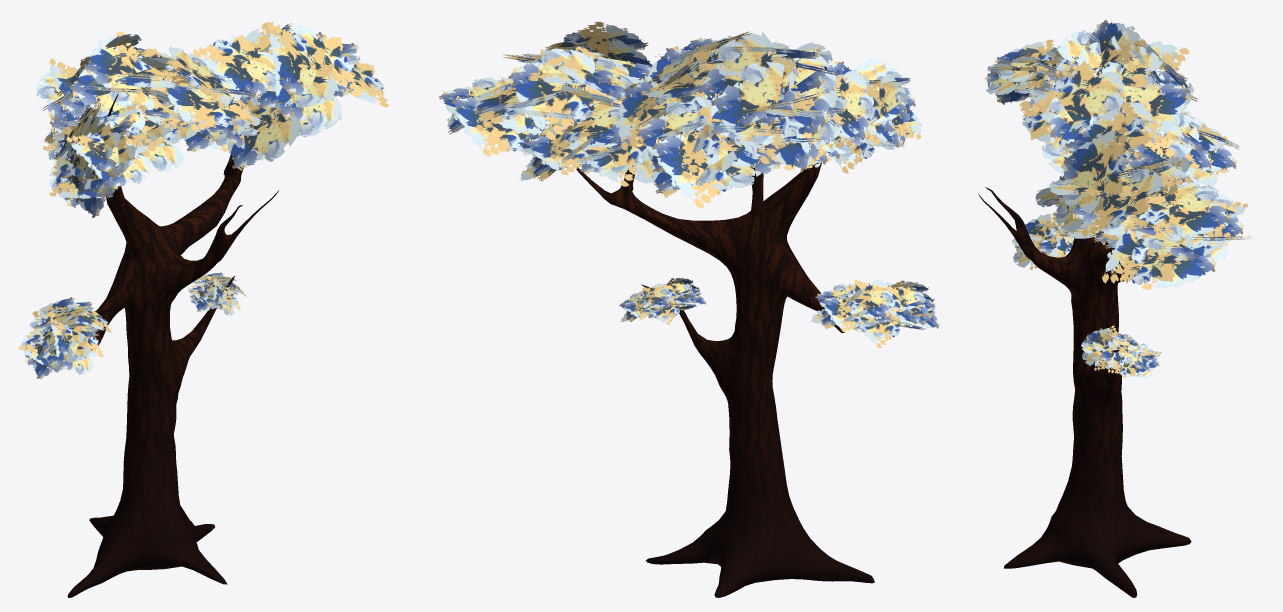
Rendered from treever2.fbx.
3 views of the same model, side by side, from view 1: azimuth 30°, elevation 25°; view 2: azimuth 150°, elevation 25°; view 3: azimuth 270°, elevation 25° (orthographic). The views are drawn at different scales.
Visible parts, largest first — view 1: tree_ver2_leafheap7, GEO_treetrunk_a2; view 2: tree_ver2_leafheap7, GEO_treetrunk_a2; view 3: tree_ver2_leafheap7, GEO_treetrunk_a2.
Part boxes in pixels (box(x1,y1,x2,y2)): tree_ver2_leafheap7: box(18, 21, 389, 379); GEO_treetrunk_a2: box(67, 93, 278, 597); tree_ver2_leafheap7: box(438, 22, 939, 347); GEO_treetrunk_a2: box(576, 66, 874, 597); tree_ver2_leafheap7: box(984, 19, 1251, 377); GEO_treetrunk_a2: box(978, 60, 1191, 597).
Size of the model in its own units: 5.03 by 5.88 by 2.93.
